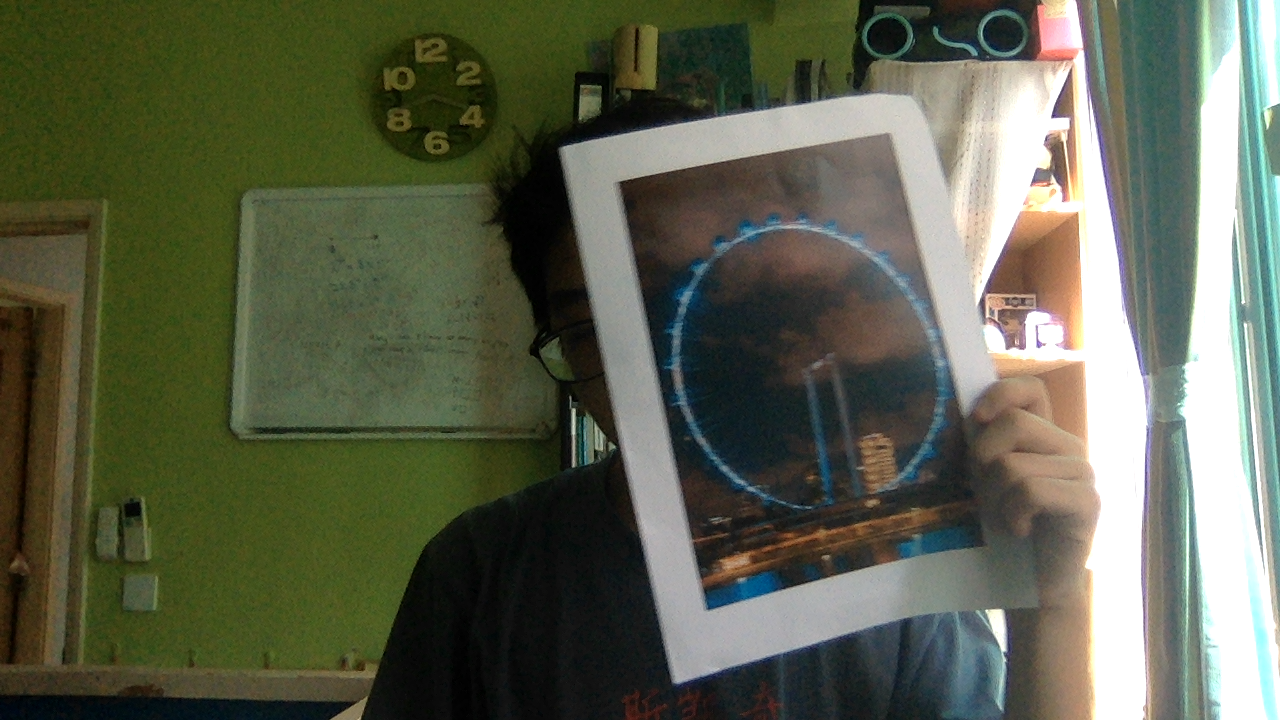Flyer: (634, 162, 967, 590)
